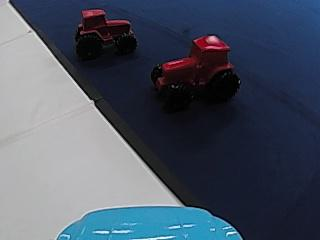Tracktor: (148, 32, 242, 105), (73, 6, 137, 58)
